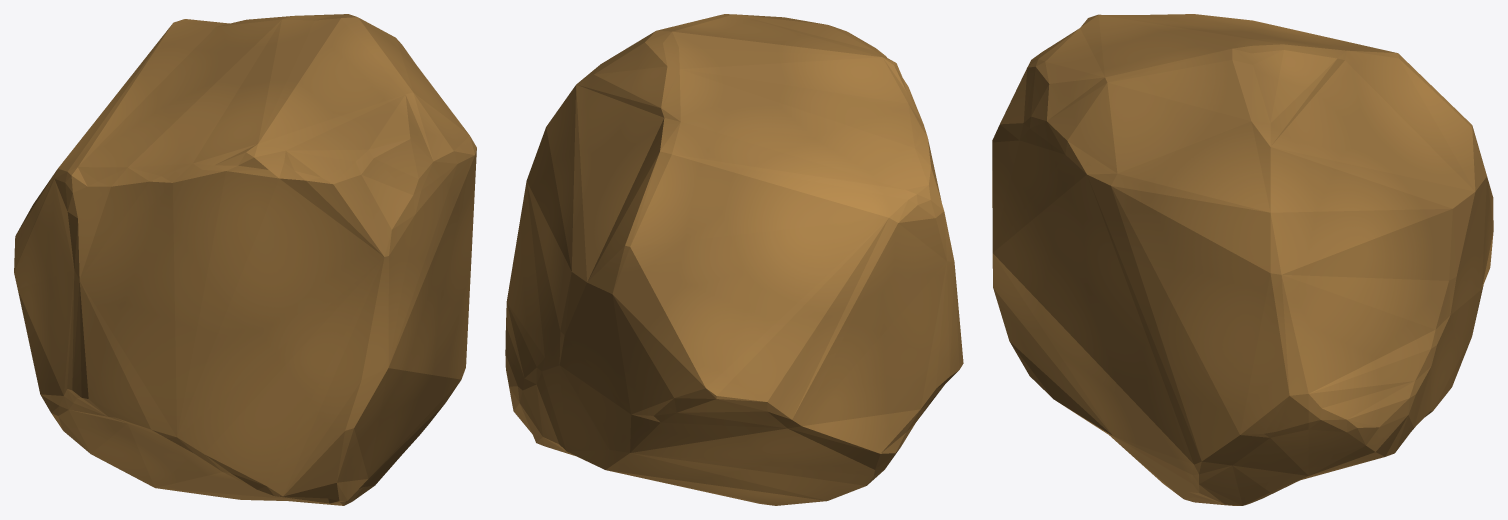
The model's file is Rock_01.fbx.
The picture shows the model from 3 angles, left to right: view 1: azimuth 30°, elevation 25°; view 2: azimuth 150°, elevation 25°; view 3: azimuth 270°, elevation 25°; orthographic projection. The views are drawn at different scales.
Parts seen in each view (by area): view 1: Rock_01; view 2: Rock_01; view 3: Rock_01.
Part boxes in pixels (bbox=[...]): Rock_01: bbox=[14, 14, 476, 505]; Rock_01: bbox=[505, 14, 963, 505]; Rock_01: bbox=[992, 14, 1493, 505].
Size of the model in its own units: 248 by 264 by 262.
1 material, 1 textured.
